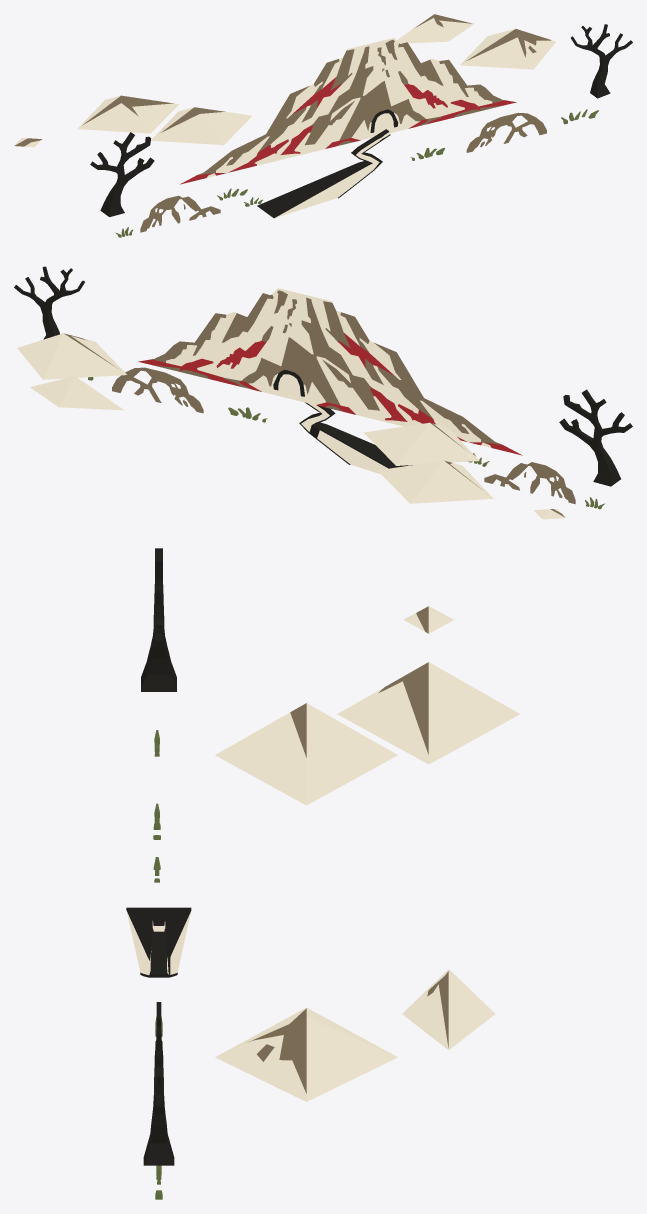
The model's file is title_diorama.glb.
3 renders of one model, top to bottom at view 1: azimuth 30°, elevation 25°; view 2: azimuth 150°, elevation 25°; view 3: azimuth 270°, elevation 25°, orthographic. The views are drawn at different scales.
Parts seen in each view (by area): view 1: firetop, mountains, path, trees, rocks, grass; view 2: firetop, mountains, trees, rocks, path, grass; view 3: mountains, trees, path.
Part boxes in pixels (box(x1,y1,x2,y2)): firetop: box(180, 38, 516, 184); mountains: box(14, 14, 555, 147); path: box(257, 129, 390, 218); trees: box(90, 24, 632, 216); rocks: box(140, 112, 546, 232); grass: box(115, 109, 598, 237); firetop: box(138, 288, 522, 455); mountains: box(17, 333, 565, 519); trees: box(14, 266, 632, 486); rocks: box(112, 367, 575, 504); path: box(299, 402, 412, 474); grass: box(88, 377, 604, 509); mountains: box(215, 606, 519, 1101); trees: box(141, 548, 176, 1165); path: box(126, 907, 191, 977).
Size of the model in its own units: 4.71 by 1.14 by 1.46.
